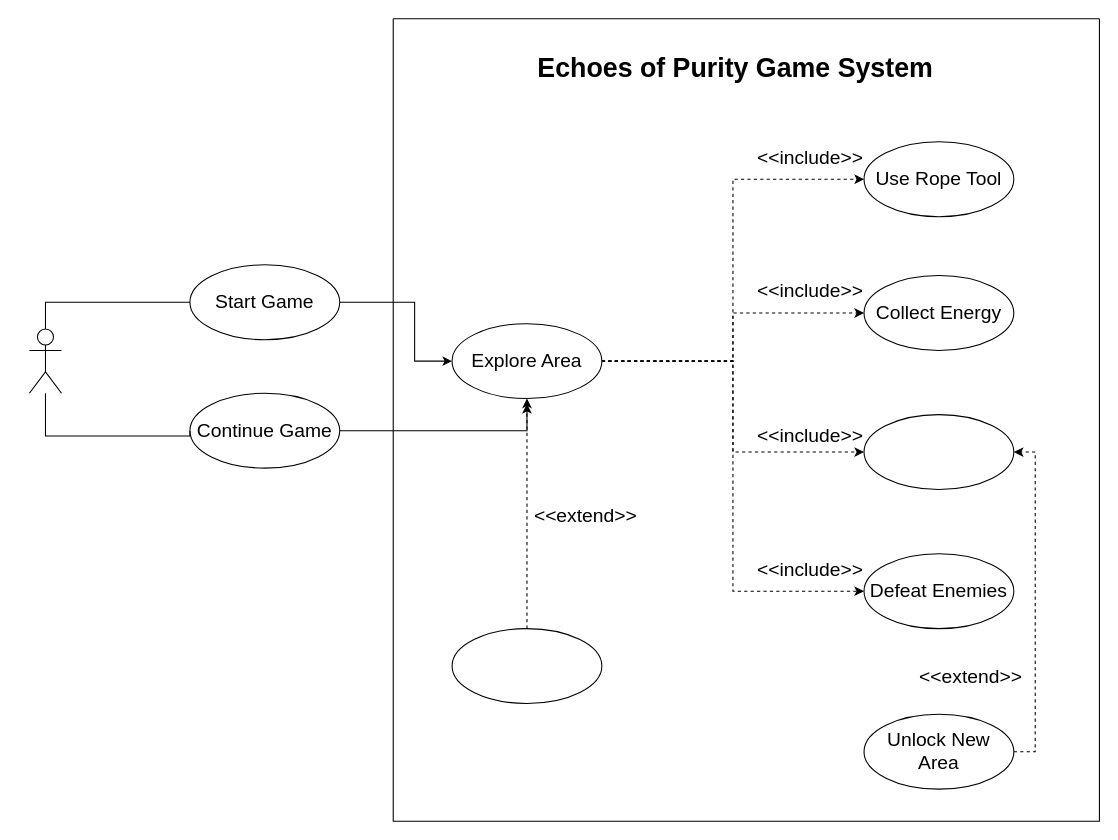
This 1118x840 diagram has some shape labels left out. The box of each missing label's shape, as (x1, y1, x2, y2) in pixels:
Player: (28, 328, 62, 393)
Purify Pollution: (863, 414, 1014, 490)
View Ending: (451, 628, 602, 704)
